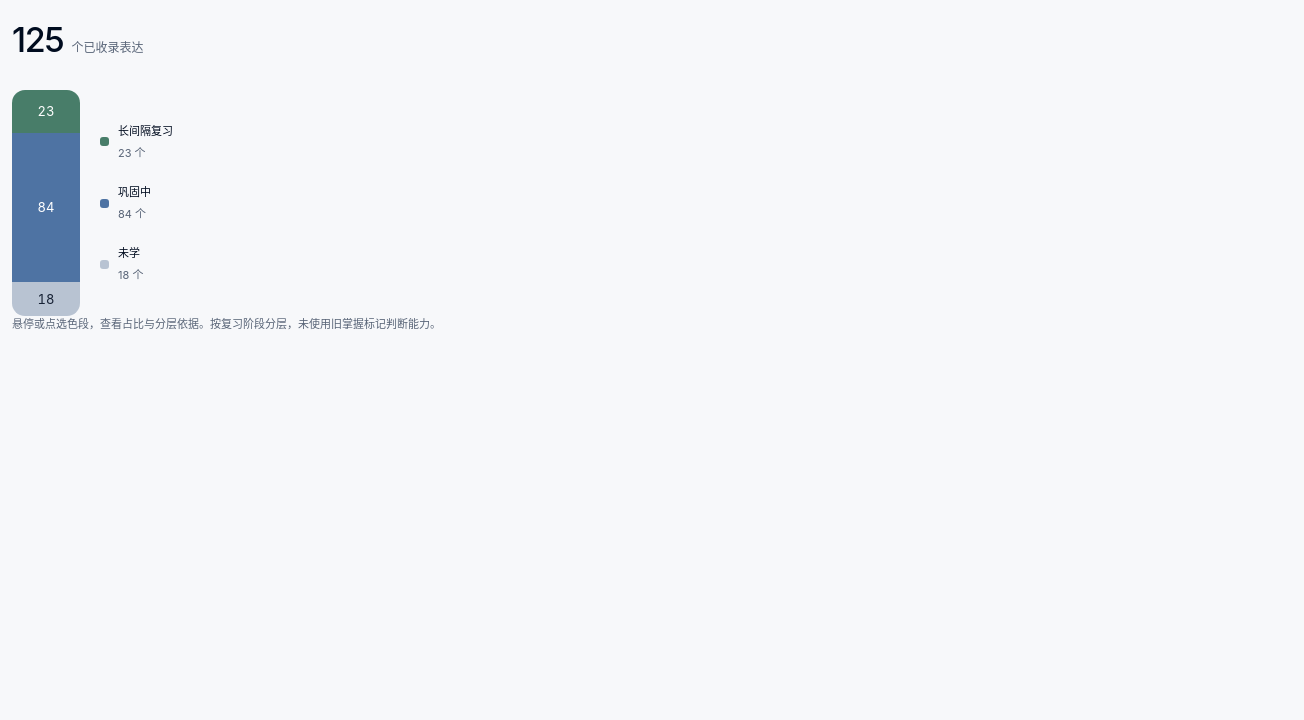
pins one segment, reports its true denominator and closes on outside tap or Escape
Click the button "84" at x=46, y=208, box [12, 133, 80, 282]
(page scrolled)
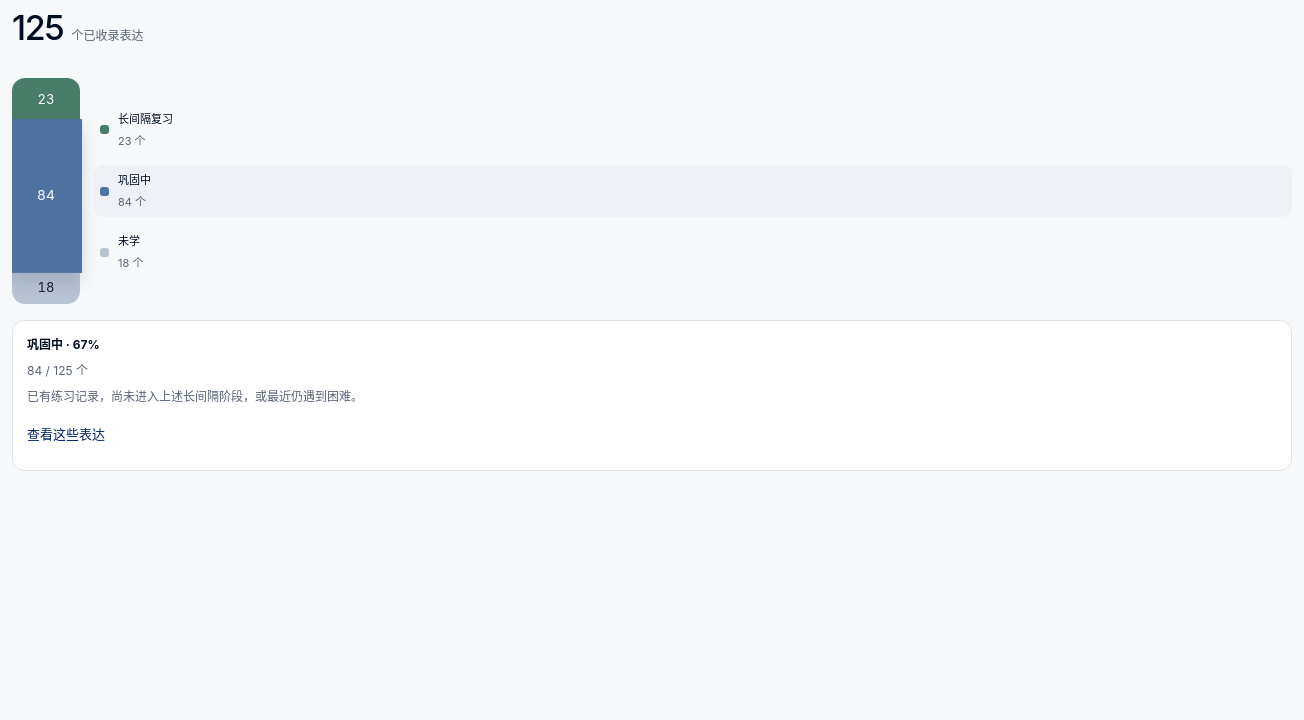
Check: the message shows "/ 125 个", box [12, 320, 1292, 472]
Press the mouse on the element that starts with "个已收录表达" at x=652, y=360, box [12, 0, 1292, 719]
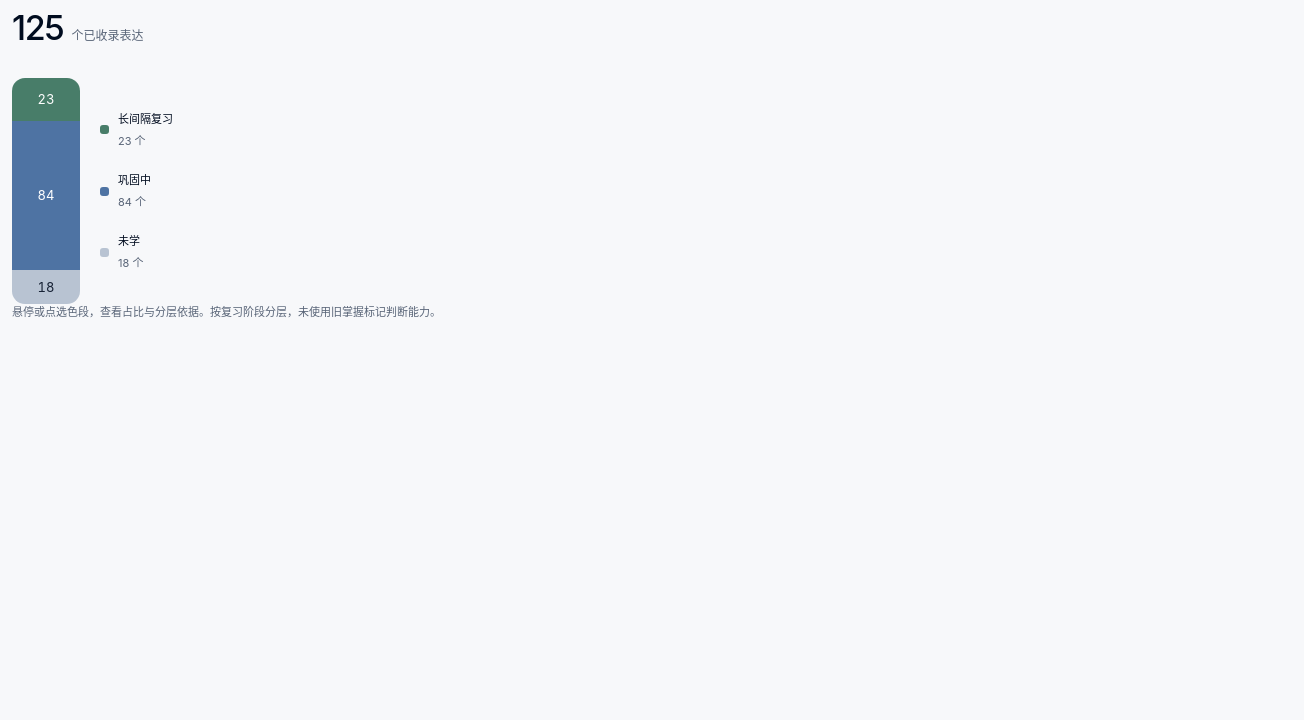
Check: the message "巩固中 · 67% 84 / 125 个 已有练习记录，尚未进入上述长间隔阶段，或最近仍遇到困难。 查看这些表达" is gone
Click the button "84" at x=46, y=196, box [12, 121, 80, 270]
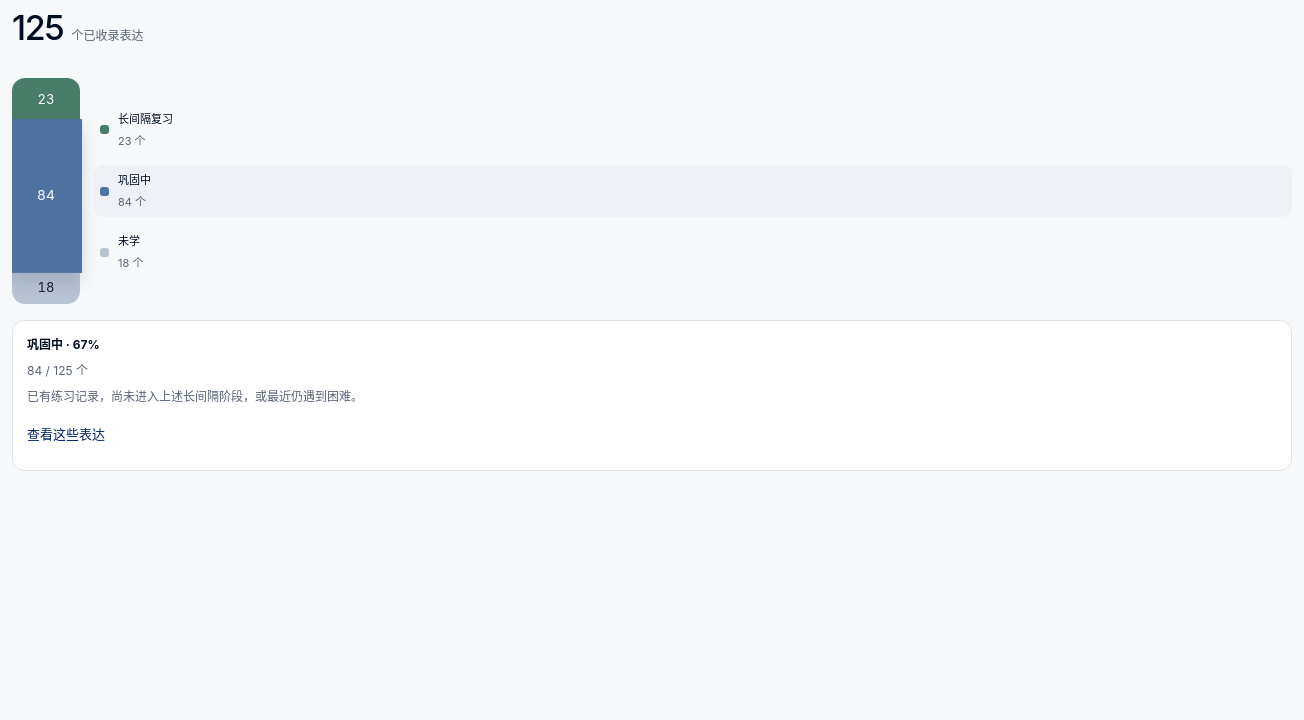
Press Escape
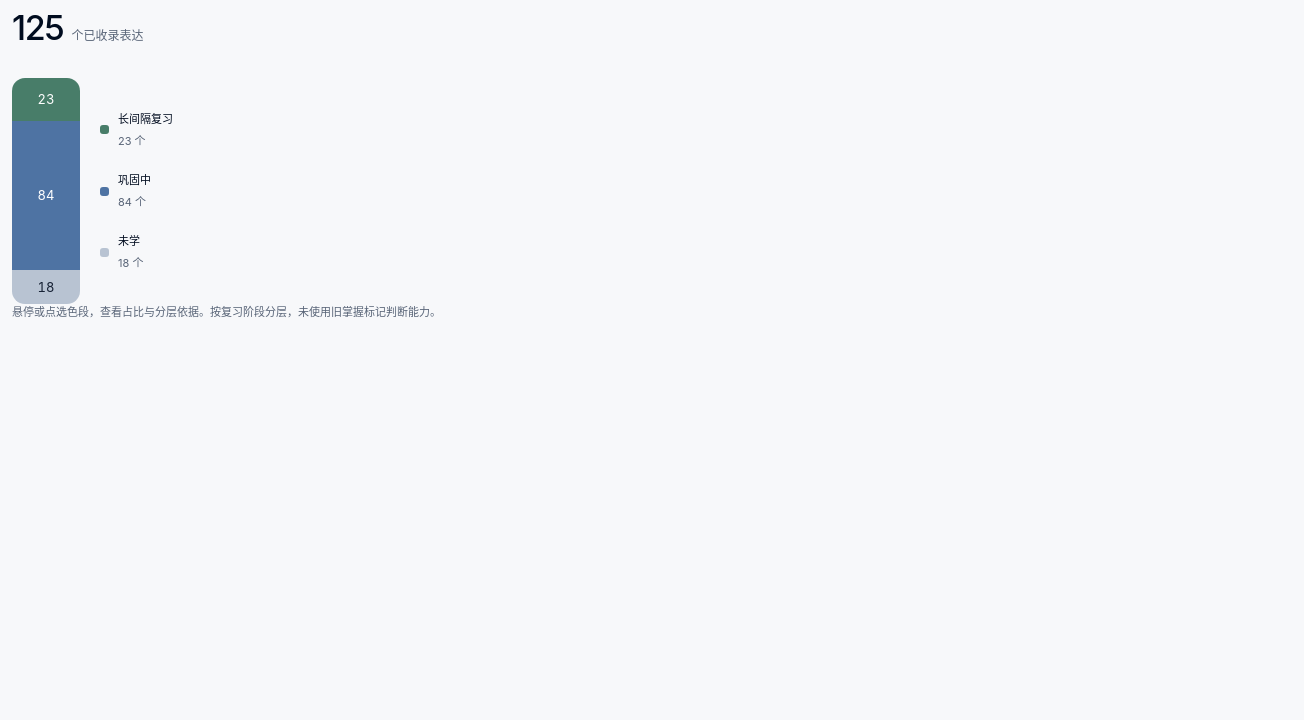
Check: the message "巩固中 · 67% 84 / 125 个 已有练习记录，尚未进入上述长间隔阶段，或最近仍遇到困难。 查看这些表达" is gone
